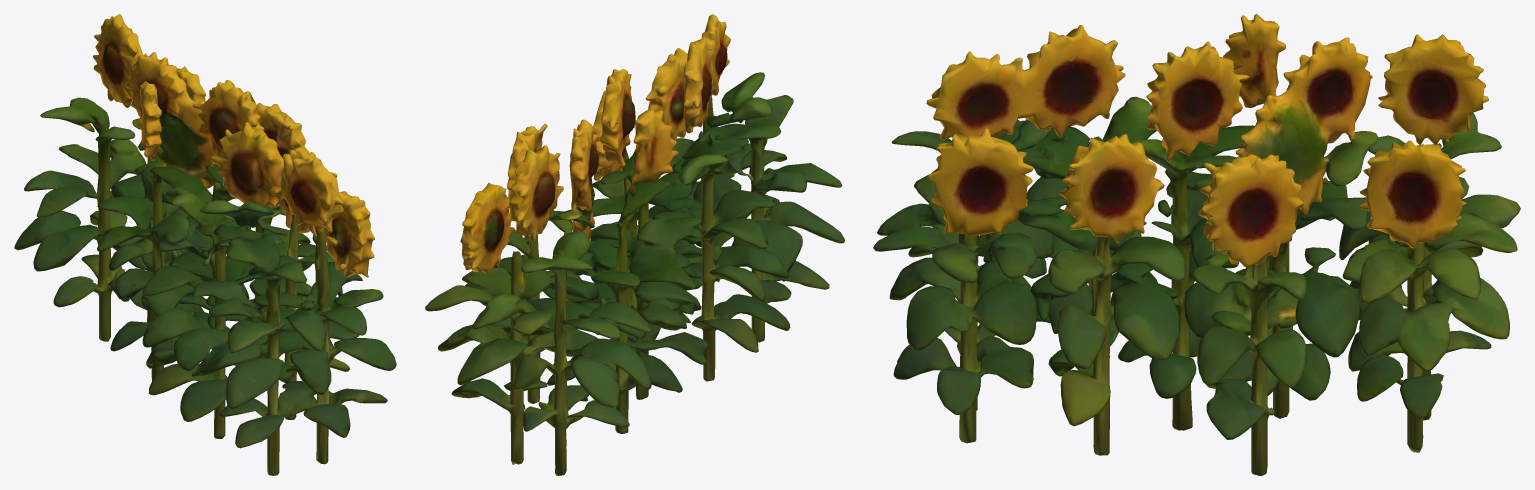
Rendered from sunflower_patch.glb.
3 renders of one model, left to right at view 1: azimuth 30°, elevation 25°; view 2: azimuth 150°, elevation 25°; view 3: azimuth 270°, elevation 25°, orthographic. The views are drawn at different scales.
Visible parts, largest first — view 1: tripo_node_b6ef562f-0958-4258-be07-dc11eba60144; view 2: tripo_node_b6ef562f-0958-4258-be07-dc11eba60144; view 3: tripo_node_b6ef562f-0958-4258-be07-dc11eba60144.
Part boxes in pixels (left/top/right/bottom): tripo_node_b6ef562f-0958-4258-be07-dc11eba60144: left=14, top=14, right=396, bottom=475; tripo_node_b6ef562f-0958-4258-be07-dc11eba60144: left=425, top=14, right=844, bottom=475; tripo_node_b6ef562f-0958-4258-be07-dc11eba60144: left=873, top=14, right=1520, bottom=475.
Bounding box in the file's own units: 0.4879 × 0.6392 × 0.9333.
1 material, 1 textured.
